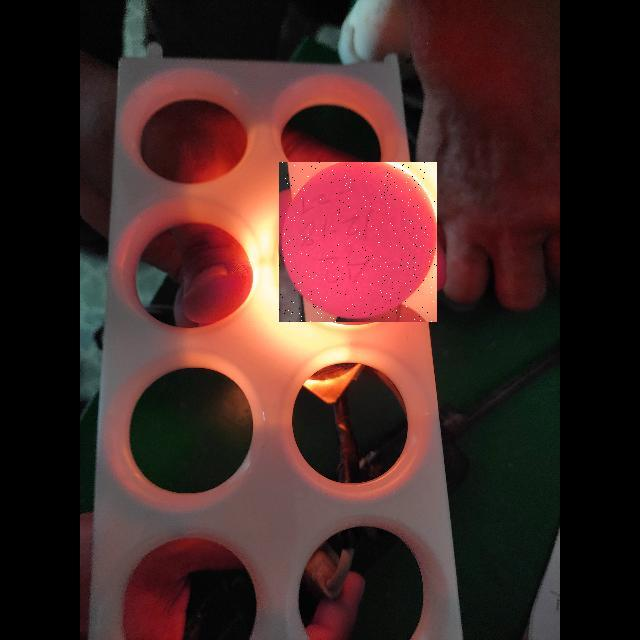Infertile: (279, 162, 437, 322)
